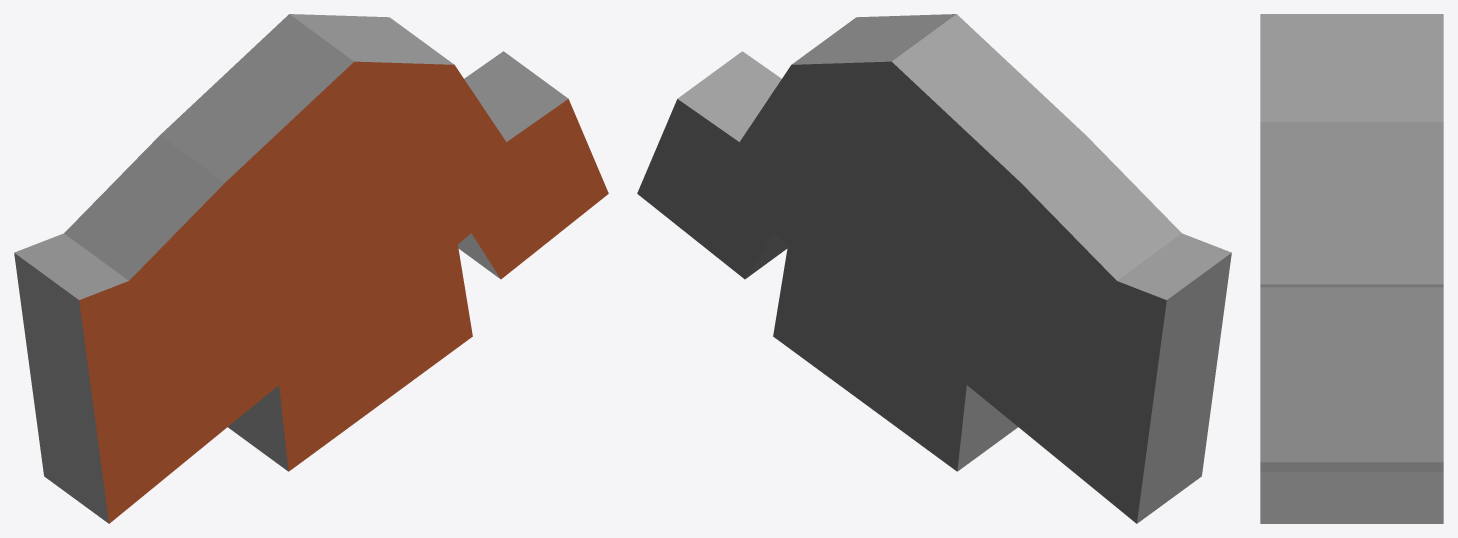
Rendered from construction_7099_assumed_A_Casa_h6m.obj.
3 renders of one model, left to right at view 1: azimuth 30°, elevation 25°; view 2: azimuth 150°, elevation 25°; view 3: azimuth 270°, elevation 25°, orthographic. The views are drawn at different scales.
Visible parts, largest first — view 1: construction_7099_assumed_A_Casa; view 2: construction_7099_assumed_A_Casa; view 3: construction_7099_assumed_A_Casa.
Boxes of the visible parts, bbox=[...] form: construction_7099_assumed_A_Casa: bbox=[14, 14, 608, 523]; construction_7099_assumed_A_Casa: bbox=[637, 14, 1231, 523]; construction_7099_assumed_A_Casa: bbox=[1260, 14, 1443, 523].
Size of the model in its own units: 28.21 by 20.49 by 6.
